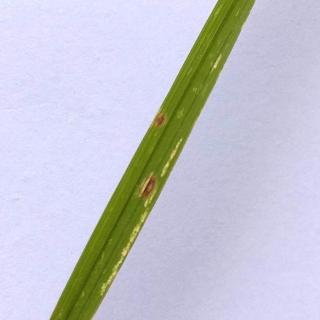Blast: (136, 164, 162, 210), (153, 113, 171, 131)
